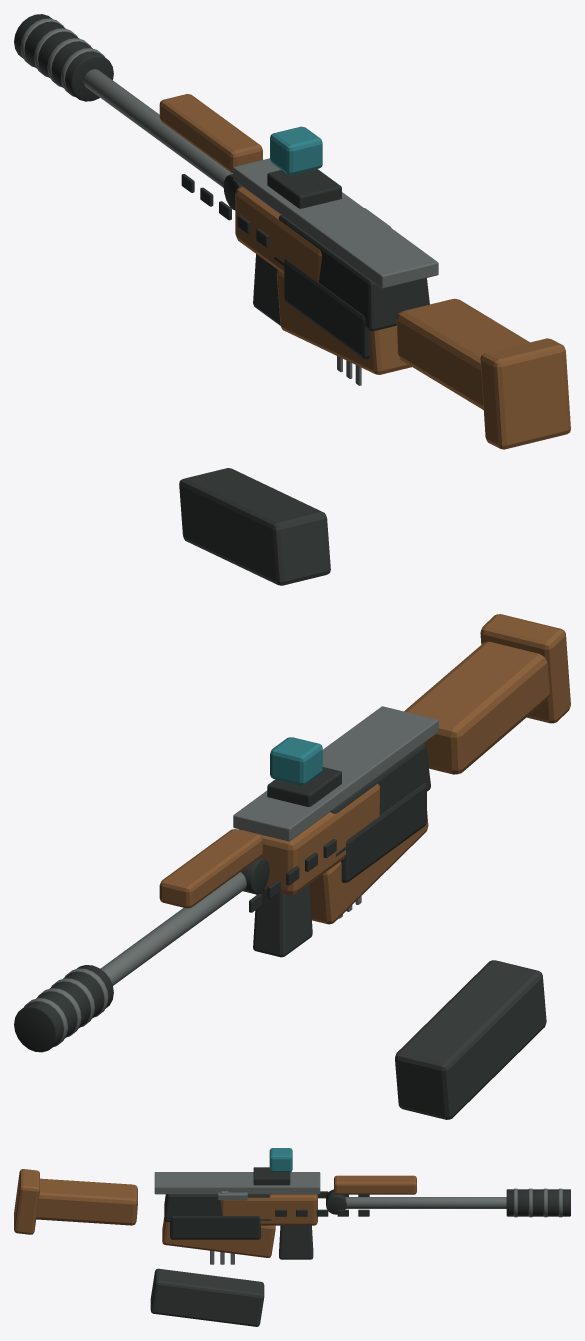
The picture shows the model from 3 angles, top to bottom: view 1: azimuth 30°, elevation 25°; view 2: azimuth 150°, elevation 25°; view 3: azimuth 270°, elevation 25°; orthographic projection. The views are drawn at different scales.
Parts seen in each view (by area): view 1: SpareMagazineBody, TopRail, StockButt, StockBody, UpperReceiver, GasTube, Handguard, LowerReceiver, SuppressorBody, MagazineBody, Barrel, OpticGlass (+2 smaller); view 2: SpareMagazineBody, StockBody, TopRail, Handguard, GasTube, SuppressorBody, StockButt, LowerReceiver, Barrel, ForegripBody, MagazineBody, UpperReceiver (+3 smaller); view 3: SpareMagazineBody, StockBody, TopRail, Handguard, LowerReceiver, Barrel, MagazineBody, GasTube, SuppressorBody, StockButt, UpperReceiver, ForegripBody (+4 smaller).
Part boxes in pixels (x1,y1,x2,y2): SpareMagazineBody: (179,468,330,585); TopRail: (233,158,438,288); StockButt: (480,338,570,449); StockBody: (396,298,529,409); UpperReceiver: (274,215,429,331); GasTube: (159,94,262,172); Handguard: (235,186,322,282); LowerReceiver: (284,259,369,358); SuppressorBody: (14,14,113,101); MagazineBody: (276,270,411,374); Barrel: (83,69,233,187); OpticGlass: (270,126,322,174); SpareMagazineBody: (395,960,546,1119); StockBody: (404,641,549,774); TopRail: (233,706,438,841); Handguard: (238,783,380,894); GasTube: (159,829,262,908); SuppressorBody: (14,965,113,1052); StockButt: (480,614,570,723); LowerReceiver: (341,782,426,882); Barrel: (100,872,246,985); ForegripBody: (253,884,312,957); MagazineBody: (309,811,428,924); UpperReceiver: (330,743,430,856); SpareMagazineBody: (150,1268,264,1326); StockBody: (36,1178,137,1225); TopRail: (154,1172,320,1194); Handguard: (220,1194,317,1225); LowerReceiver: (170,1216,260,1239); Barrel: (345,1197,506,1208); MagazineBody: (162,1217,275,1257); GasTube: (334,1175,416,1194); SuppressorBody: (506,1189,570,1216); StockButt: (14,1169,39,1234); UpperReceiver: (164,1194,271,1221); ForegripBody: (279,1225,313,1259).
Bounding box in the file's own units: 0.4826 × 0.9507 × 2.42.
